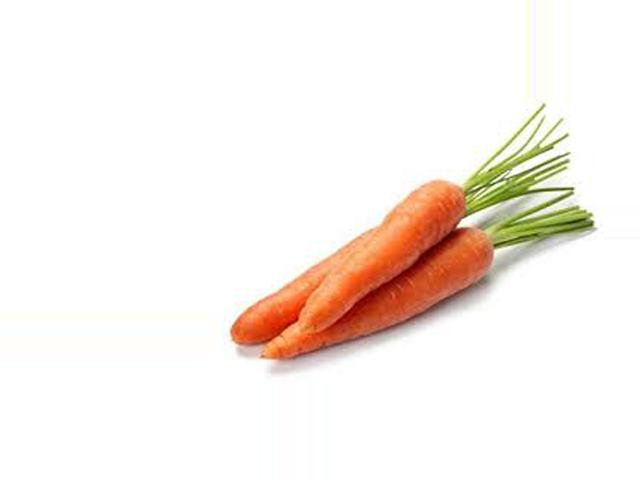carrot: (230, 226, 382, 346)
